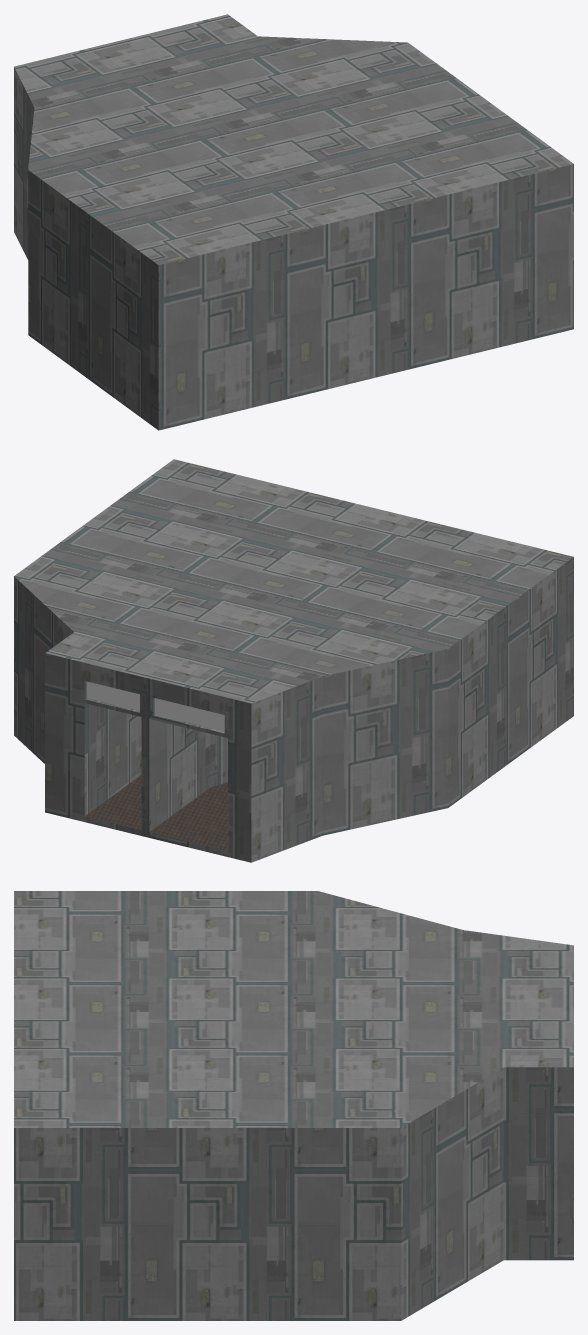
The model's file is ARRIVAL_MODULE.fbx.
3 renders of one model, top to bottom at view 1: azimuth 30°, elevation 25°; view 2: azimuth 150°, elevation 25°; view 3: azimuth 270°, elevation 25°, orthographic. The views are drawn at different scales.
Visible parts, largest first — view 1: ARRIVAL MODULE; view 2: ARRIVAL MODULE; view 3: ARRIVAL MODULE.
Boxes of the visible parts, box(x1,y1,x2,y2) form: ARRIVAL MODULE: box(14, 14, 573, 430); ARRIVAL MODULE: box(14, 459, 573, 862); ARRIVAL MODULE: box(14, 891, 573, 1320).
Size of the model in its own units: 1275 by 485 by 1275.
